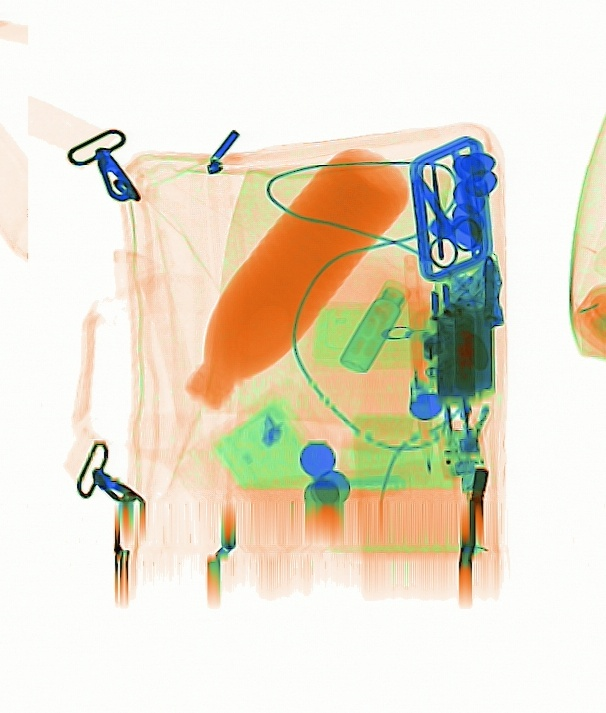powerbank: (430, 263, 496, 402)
scissors: (410, 165, 484, 265)
